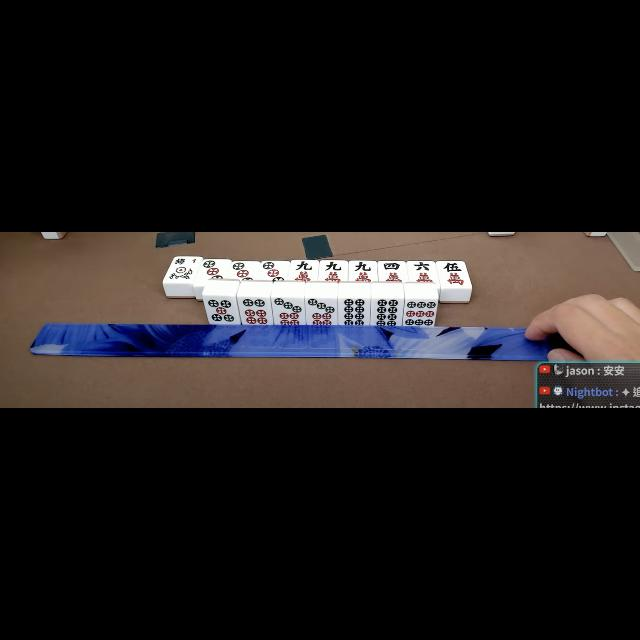c4: (378, 260, 406, 282)
c5: (439, 260, 469, 288)
c6: (408, 260, 438, 284)
c9: (319, 259, 347, 281), (290, 260, 318, 282), (349, 260, 376, 282)
d3: (198, 260, 228, 282), (260, 260, 288, 282), (229, 262, 257, 280)
d5: (205, 294, 238, 324)
d6: (240, 296, 270, 324)
d7: (272, 296, 304, 324), (306, 297, 336, 325)
d8: (372, 297, 402, 327), (339, 298, 369, 326)
d9: (404, 298, 436, 328)
f1: (172, 256, 198, 268)
